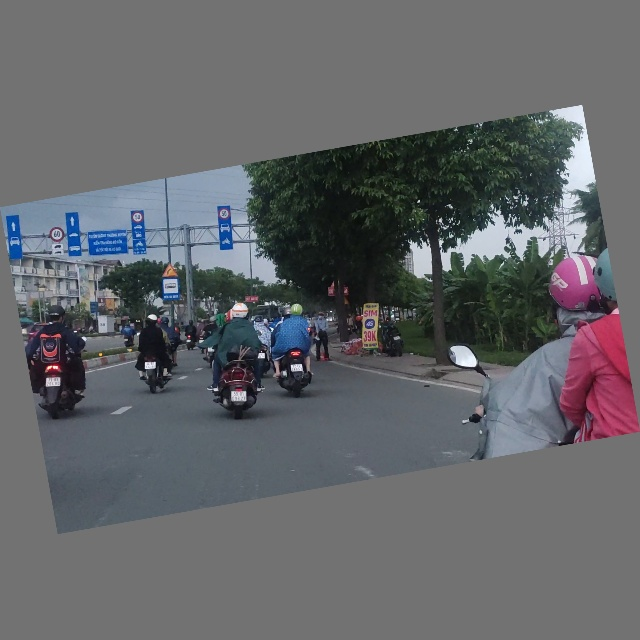I.434a: (159, 277, 182, 303)
P.127*50: (131, 211, 144, 225), (218, 207, 230, 221)
P.127*60: (48, 226, 65, 243)
S.505a*Xe tai va cong: (51, 243, 64, 258)
W.201b: (159, 263, 179, 280)
